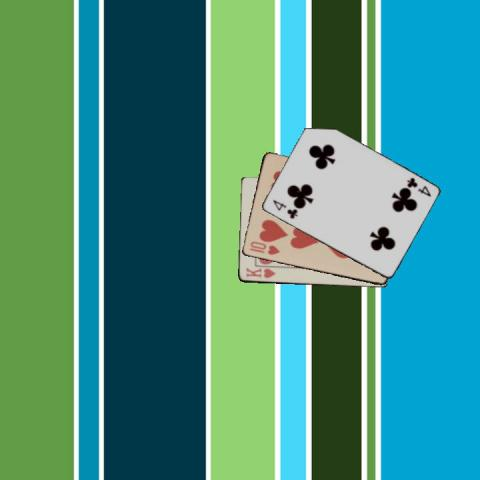10h: (246, 238, 281, 256)
4c: (269, 196, 299, 221), (403, 175, 432, 198)
Kh: (243, 266, 276, 280)
